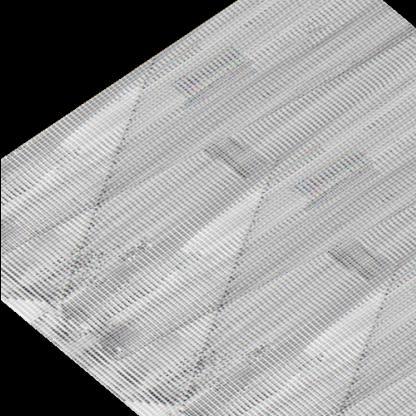Damage: (38, 229, 113, 329)
